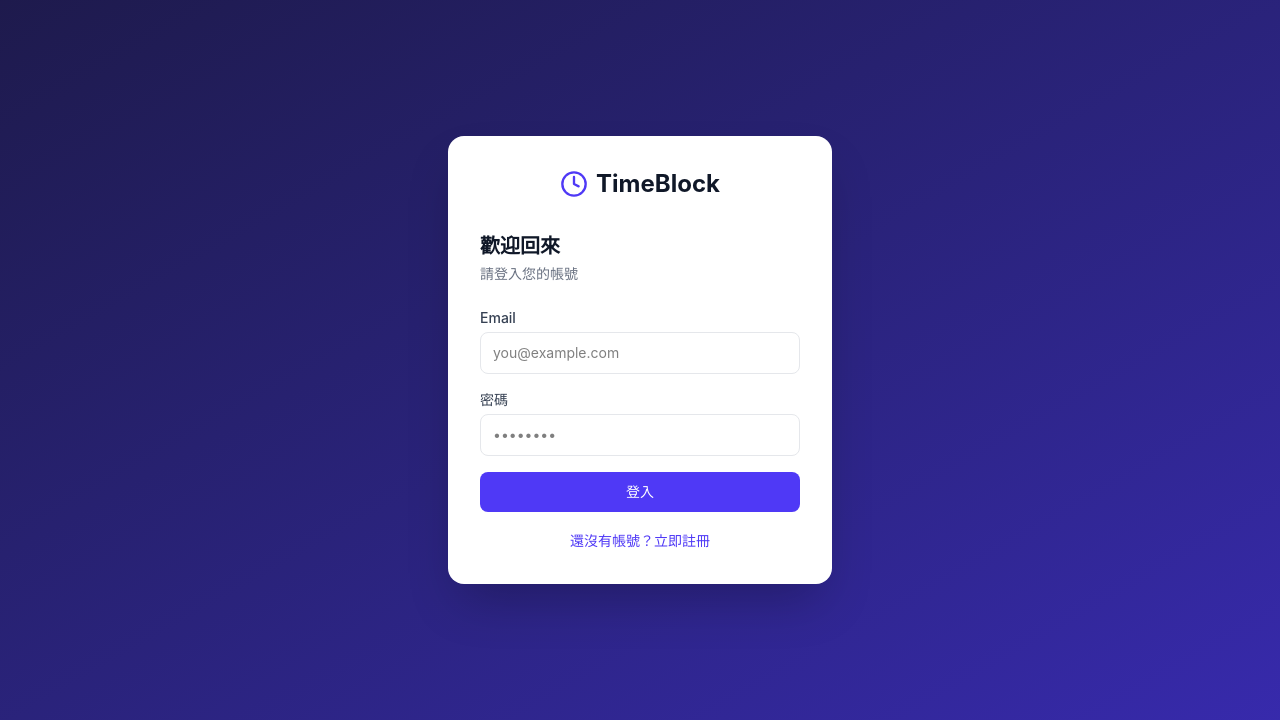
Scenario: LoginPage › 點擊切換連結切換至註冊模式
This screenshot has width=1280, height=720.
Click the button "還沒有帳號？立即註冊" at (640, 541), box [570,531,710,551]
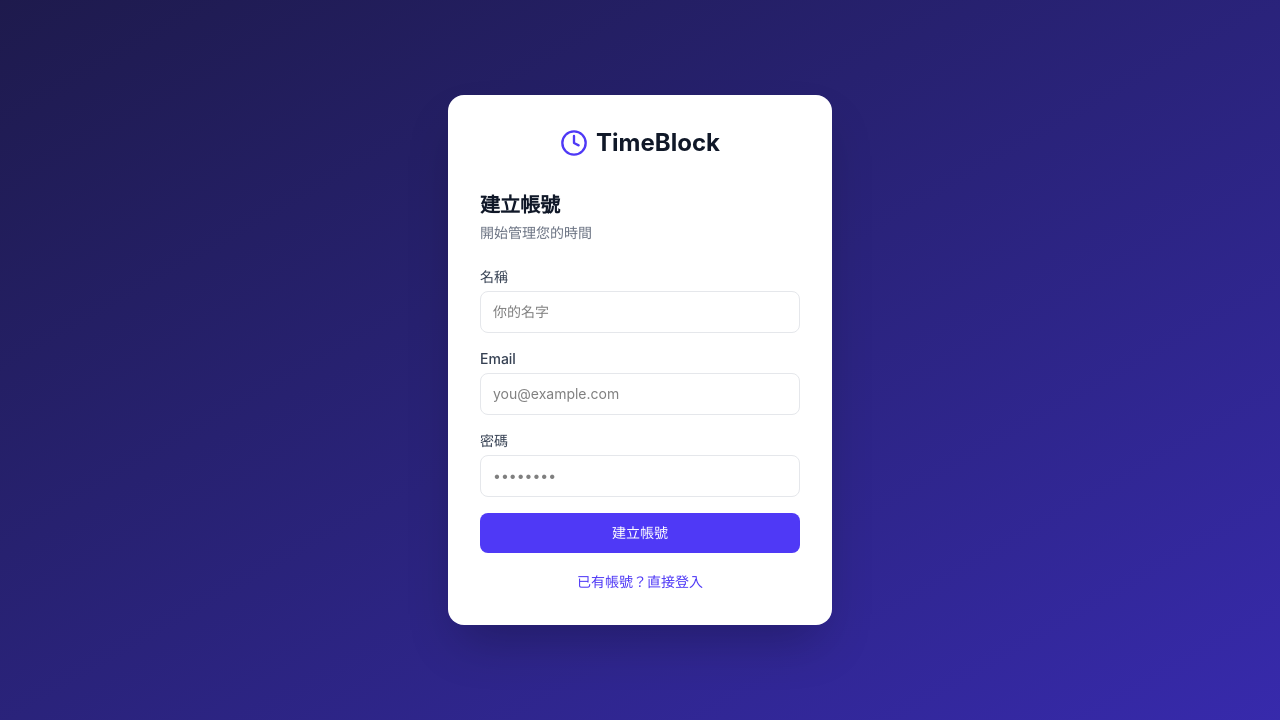
Expected: the heading "建立帳號" is shown, [480,193,560,217]
Expected: the text "開始管理您的時間" is shown, [480,224,592,241]
Expected: the field with placeholder "你的名字" is shown, [480,291,800,333]
